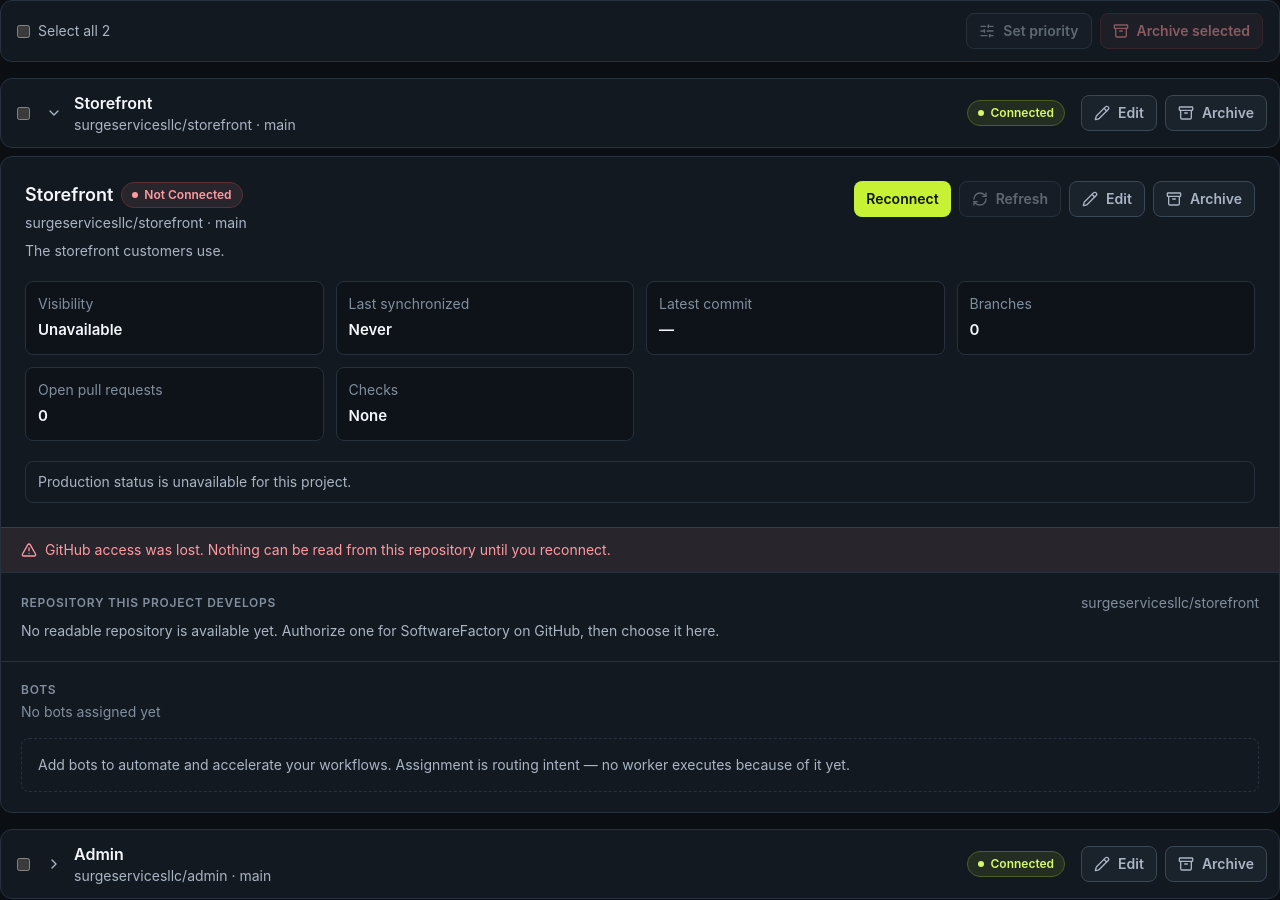
Test: editing and archiving from My Projects › will not archive without a reason, or with nothing selected
This screenshot has width=1280, height=900.
Expected: the button with aria-label "Edit Storefront" is shown, top-left (1081, 95), bottom-right (1157, 131)
Expected: the button "Archive selected" is disabled, top-left (1100, 13), bottom-right (1263, 49)
Click the checkbox named "select Storefront" at coordinates (24, 113), box top-left (17, 106), bottom-right (30, 120)
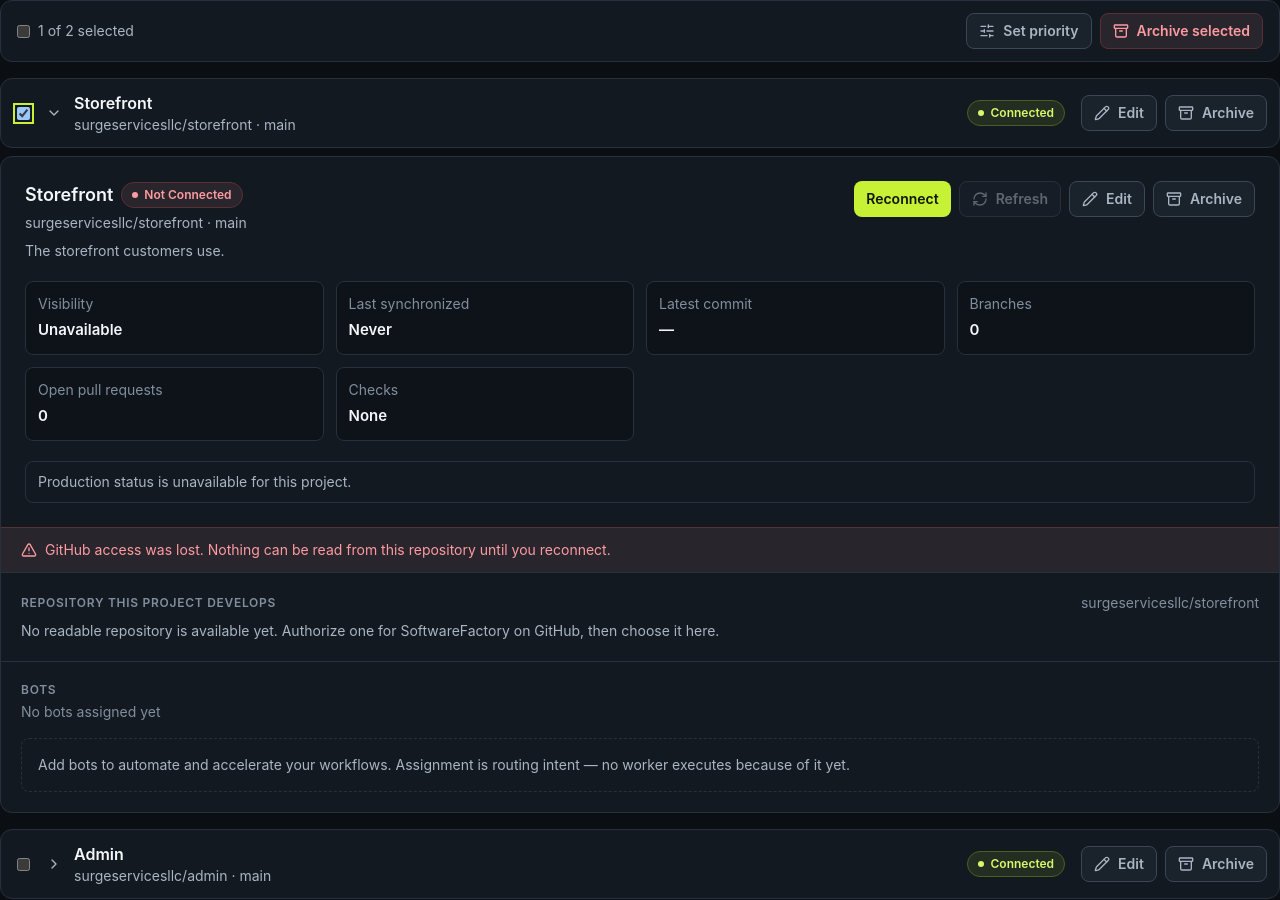
Click the button "Archive selected" at coordinates (1181, 31), box top-left (1100, 13), bottom-right (1263, 49)
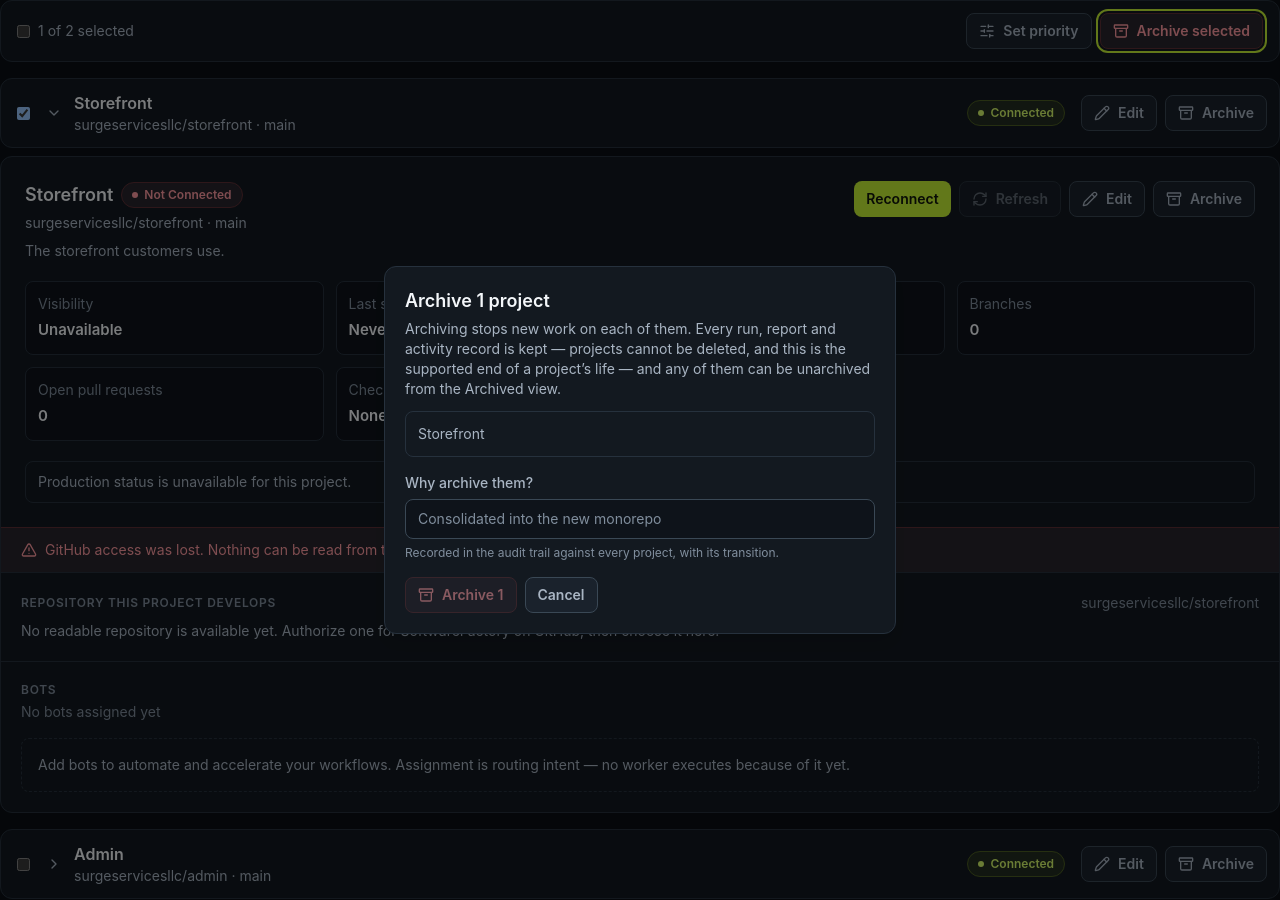
Expected: the button "Archive 1" is disabled, top-left (405, 577), bottom-right (516, 613)
